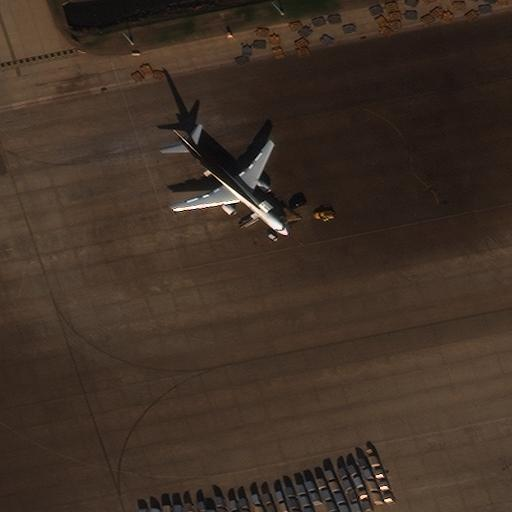Large Civil Transport: (172, 129, 288, 235)
